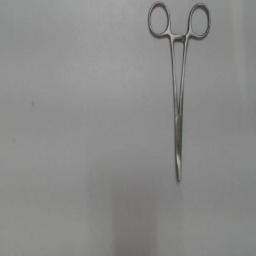Crile Artery Forceps: (146, 2, 214, 188)
